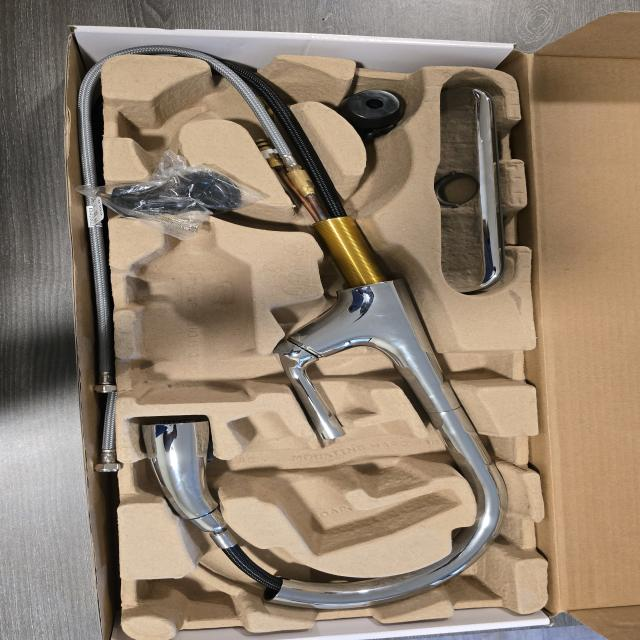1: (139, 58, 506, 609)
2m: (224, 411, 461, 554)
3m: (132, 219, 250, 404)
4: (432, 86, 503, 293)
5: (339, 87, 406, 138)
6m: (113, 83, 210, 150)
7: (76, 149, 268, 240)
